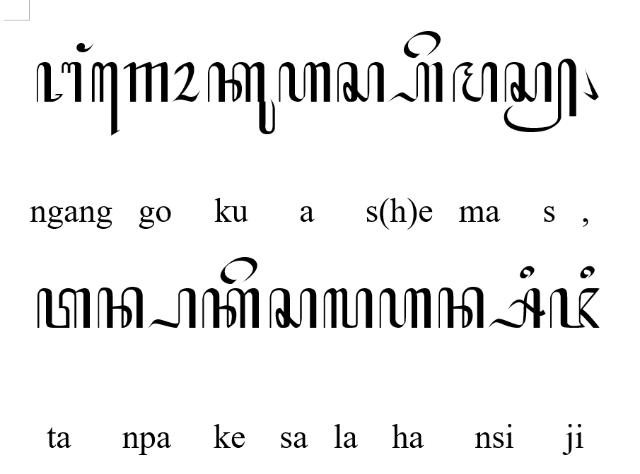-s: (503, 58, 577, 132)
_h: (388, 62, 444, 102)
_p: (148, 288, 196, 328)
_s: (488, 288, 546, 328)
e: (220, 256, 258, 284), (403, 32, 441, 58)
e1: (92, 62, 120, 136)
g: (124, 62, 168, 102)
h: (378, 288, 432, 328), (278, 62, 330, 102)
i: (519, 266, 535, 278), (580, 266, 596, 278)
j: (549, 288, 599, 328)
k: (202, 288, 260, 328)
kom: (582, 67, 598, 101)
ku: (207, 62, 275, 135)
l: (323, 288, 373, 328)
m: (452, 62, 498, 102)
n: (97, 288, 143, 328), (438, 288, 484, 328)
ng: (76, 42, 94, 52)
nga: (36, 62, 82, 102)
o: (172, 62, 200, 102)
s: (269, 289, 317, 330), (336, 62, 384, 102)
t: (37, 288, 91, 328)
